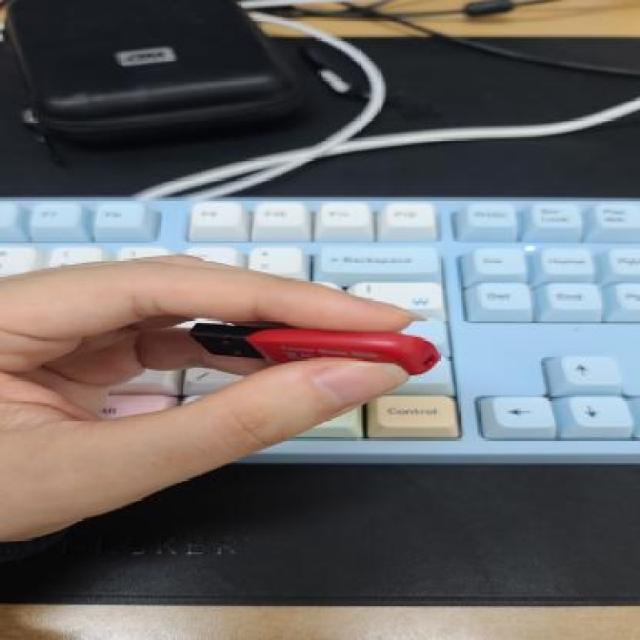Flashdisk: (185, 321, 442, 374)
